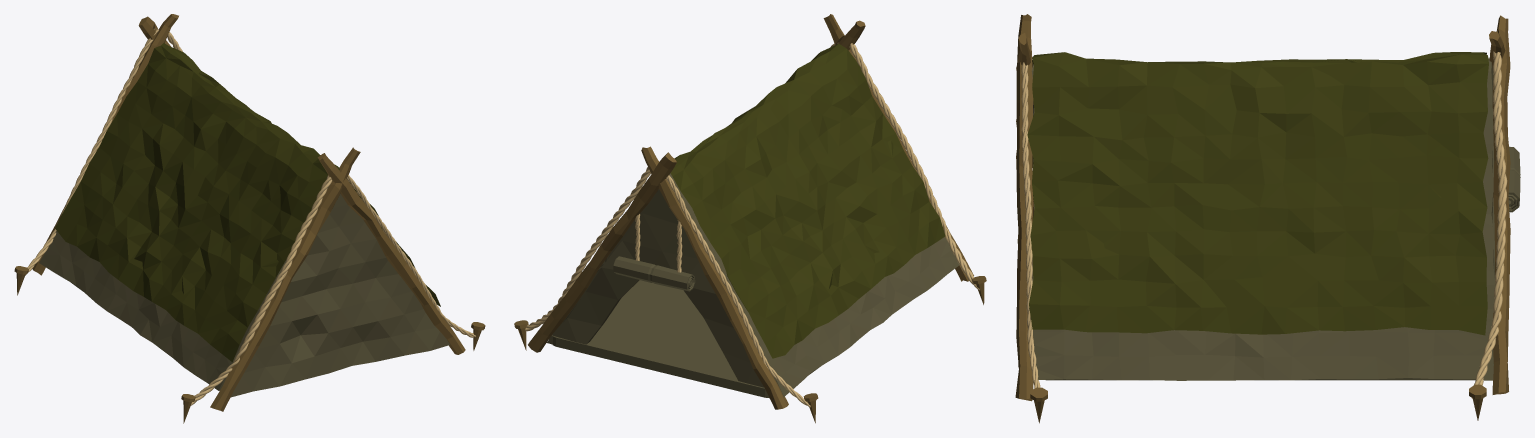
File: Tent.glb
3 views of the same model, side by side, from view 1: azimuth 30°, elevation 25°; view 2: azimuth 150°, elevation 25°; view 3: azimuth 270°, elevation 25° (orthographic). The views are drawn at different scales.
Parts seen in each view (by area): view 1: Coat_TentCloth_0, Entrance_Tent_0, LeftPoles_Material.001_0, Rope_Ropes_0; view 2: Coat_TentCloth_0, Entrance_Tent_0, LeftPoles_Material.001_0, Rope_Ropes_0; view 3: Coat_TentCloth_0, Entrance_Tent_0, LeftPoles_Material.001_0, Rope_Ropes_0.
Boxes of the visible parts, x1,y1,x2,y2 form: Coat_TentCloth_0: (55, 43, 440, 362); Entrance_Tent_0: (39, 185, 449, 397); LeftPoles_Material.001_0: (14, 14, 485, 423); Rope_Ropes_0: (25, 28, 475, 405); Coat_TentCloth_0: (670, 44, 945, 358); Entrance_Tent_0: (546, 173, 959, 398); LeftPoles_Material.001_0: (514, 14, 986, 423); Rope_Ropes_0: (525, 42, 979, 407); Coat_TentCloth_0: (1027, 52, 1488, 335); Entrance_Tent_0: (1018, 58, 1520, 380); LeftPoles_Material.001_0: (1015, 14, 1510, 423); Rope_Ropes_0: (1021, 51, 1507, 398).
Size of the model in its own units: 3.73 by 2.93 by 4.19.
